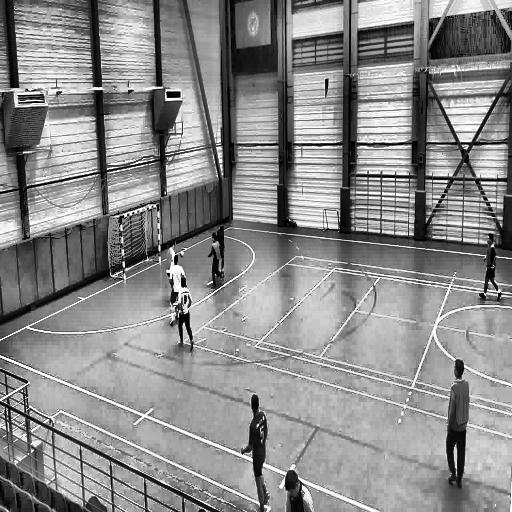ball: (179, 248, 186, 260)
player: (444, 358, 472, 492), (240, 393, 270, 510), (478, 231, 504, 305), (176, 277, 193, 354), (284, 469, 314, 512), (207, 234, 224, 290), (172, 254, 179, 276), (167, 241, 176, 252), (216, 225, 226, 232)
